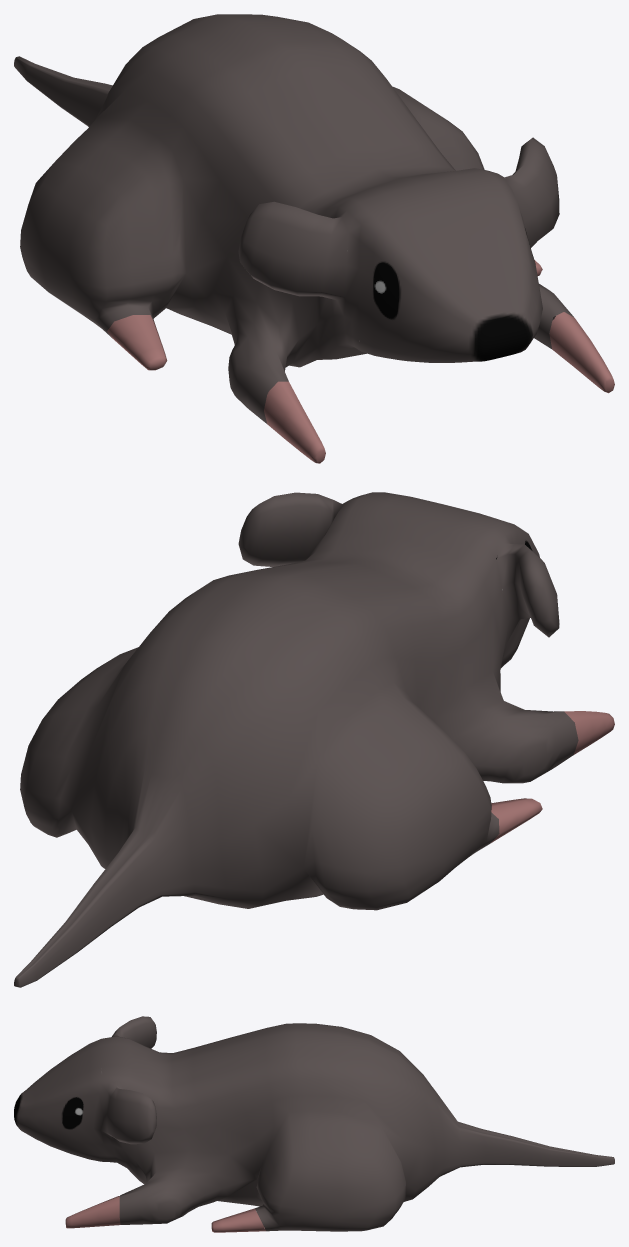
The model's file is daga.fbx.
The picture shows the model from 3 angles, top to bottom: view 1: azimuth 30°, elevation 25°; view 2: azimuth 150°, elevation 25°; view 3: azimuth 270°, elevation 25°; orthographic projection. The views are drawn at different scales.
Visible parts, largest first — view 1: Cube; view 2: Cube; view 3: Cube.
Part boxes in pixels (left/top/right/bottom): Cube: left=14, top=14, right=614, bottom=463; Cube: left=14, top=492, right=614, bottom=987; Cube: left=14, top=1016, right=614, bottom=1232.
Size of the model in its own units: 526 by 310 by 1108.
1 material, 1 textured.
